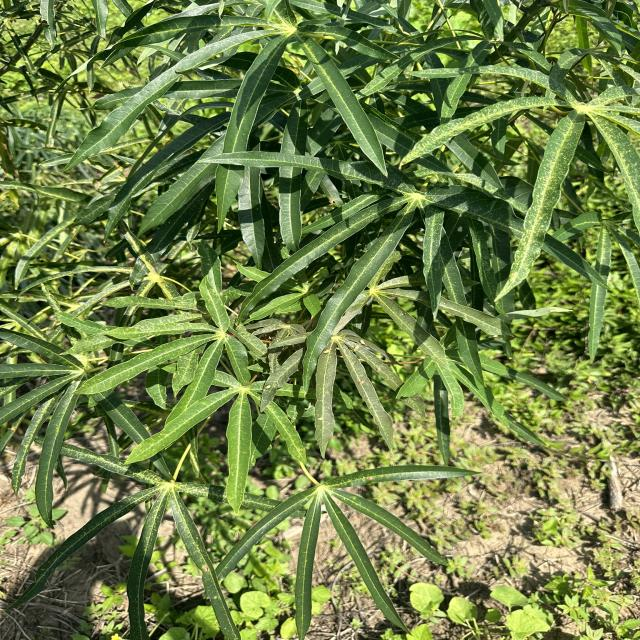Mosca: (347, 331, 369, 362), (443, 159, 470, 177), (261, 373, 280, 396), (202, 410, 212, 424)
